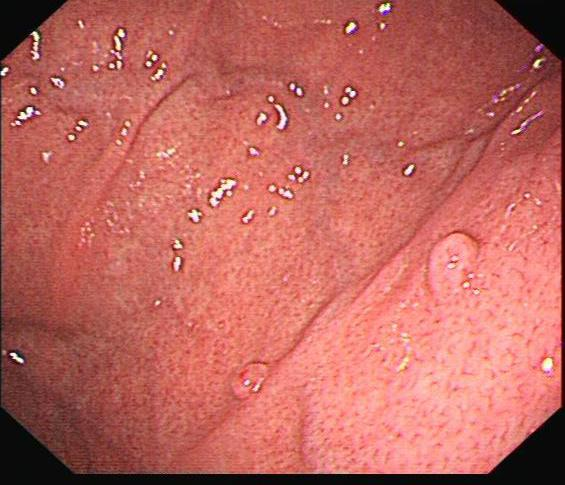Polyp: (413, 224, 485, 303)
